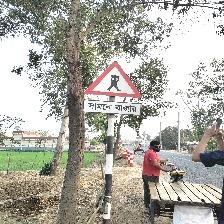Market-in-front: (83, 61, 142, 116)
